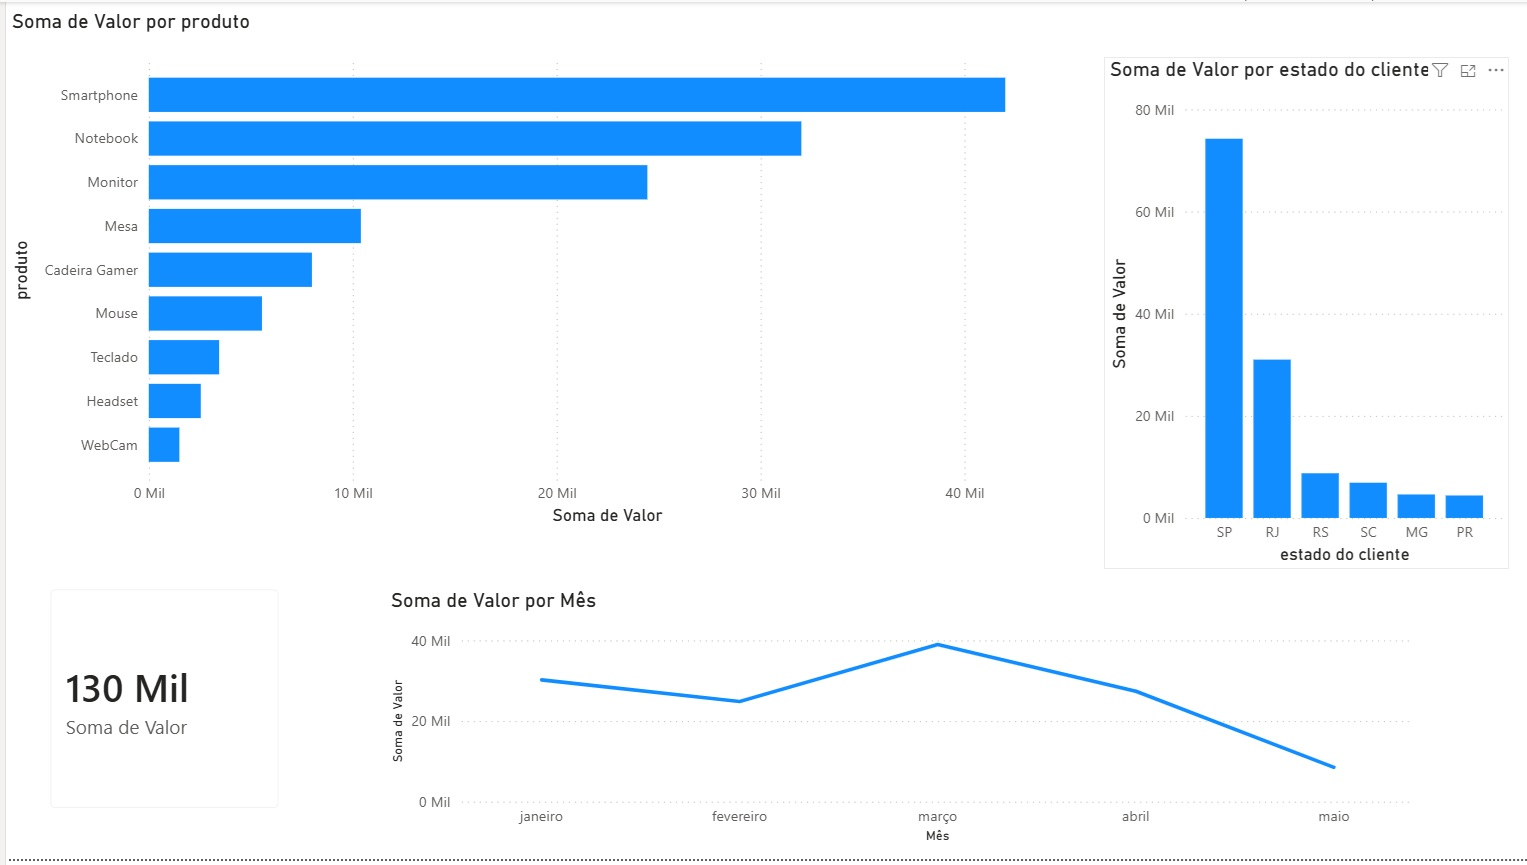

What the dashboard file says about the page in this screenshot:
{"tool":"powerbi","page":{"name":"Página 1","canvas":[1280,720],"ordinal":0},"visuals":[{"type":"cardVisual","fields":{"Data":["Sum(Venda.Valor)"]},"box":[20.2,476.5,226.4,218.9],"z":0},{"type":"barChart","fields":{"Y":["Sum(Venda.Valor)"],"Category":["Venda.produto"]},"box":[0,5.9,913.2,437.9],"z":1000},{"type":"columnChart","fields":{"Category":["Venda.estado do cliente"],"Y":["Sum(Venda.Valor)"]},"box":[922.8,46.2,340.6,430.4],"z":2000},{"type":"lineChart","fields":{"Category":["Venda.data.Variation.Hierarquia de datas.Mês"],"Y":["Sum(Venda.Valor)"]},"box":[318.5,492.5,869,218.5],"z":2001}]}

Visuals, with their boxes in screenshot pixels (x1, y1, x2, y2), scaled from the page's 1280x720 canvas onto the 1527x865 screenshot:
cardVisual - Sum(Venda.Valor): bbox(24, 572, 294, 835)
barChart - Sum(Venda.Valor) x Venda.produto: bbox(0, 7, 1089, 533)
columnChart - Venda.estado do cliente x Sum(Venda.Valor): bbox(1101, 56, 1507, 573)
lineChart - Venda.data.Variation.Hierarquia de datas.Mês x Sum(Venda.Valor): bbox(380, 592, 1417, 854)
